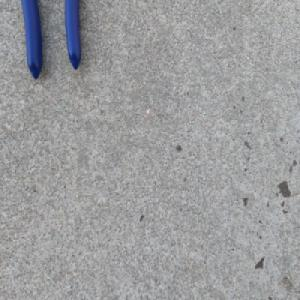Pliers: (21, 0, 84, 83)
